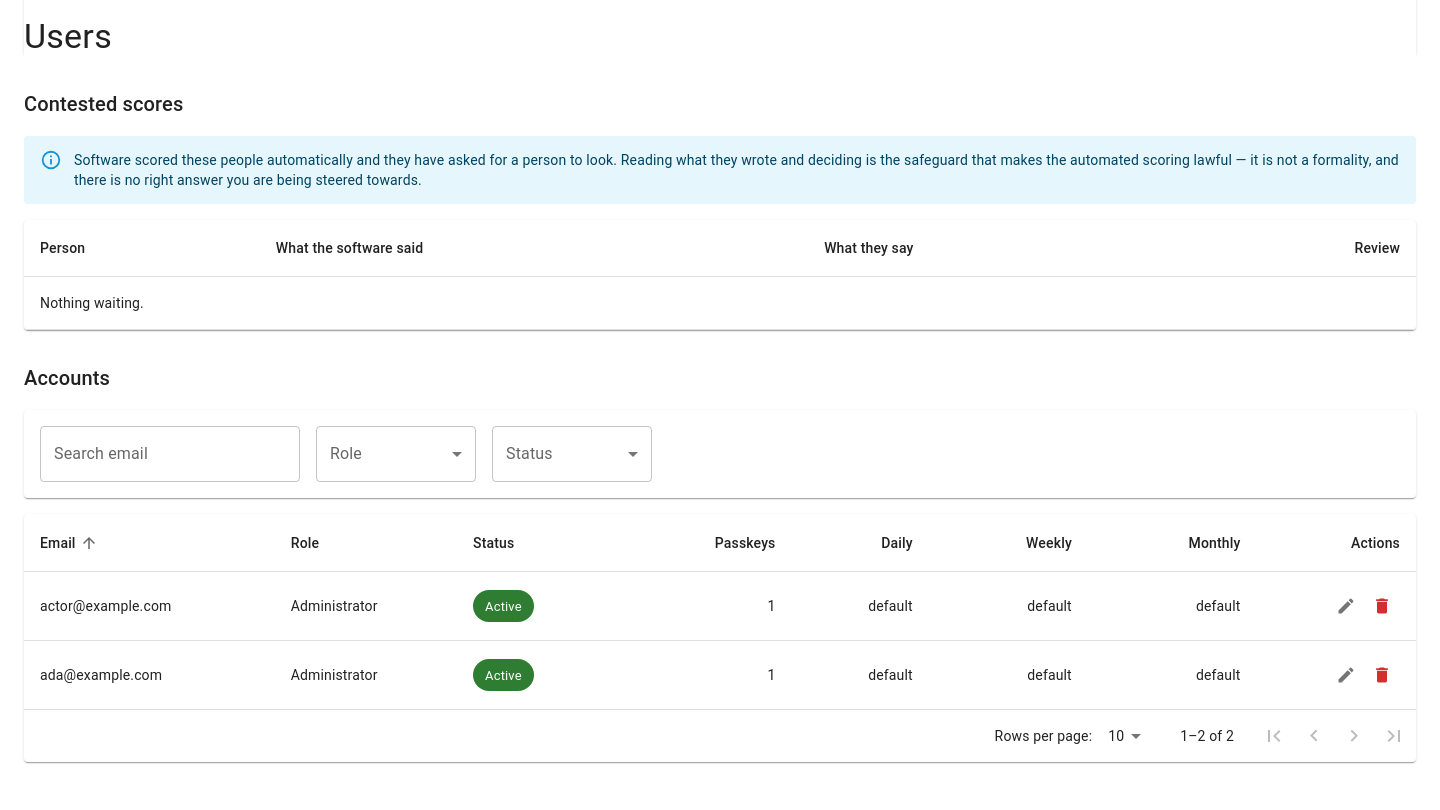
Test case: choosing a role › names the account in the question, so the wrong row is visible
(page scrolled)
What coordinates should you click on to do the following:
click the button named "Edit" in the row of "ada@example.com"
I would click on:
 (1346, 675)
Its box is [1328,657,1364,693].
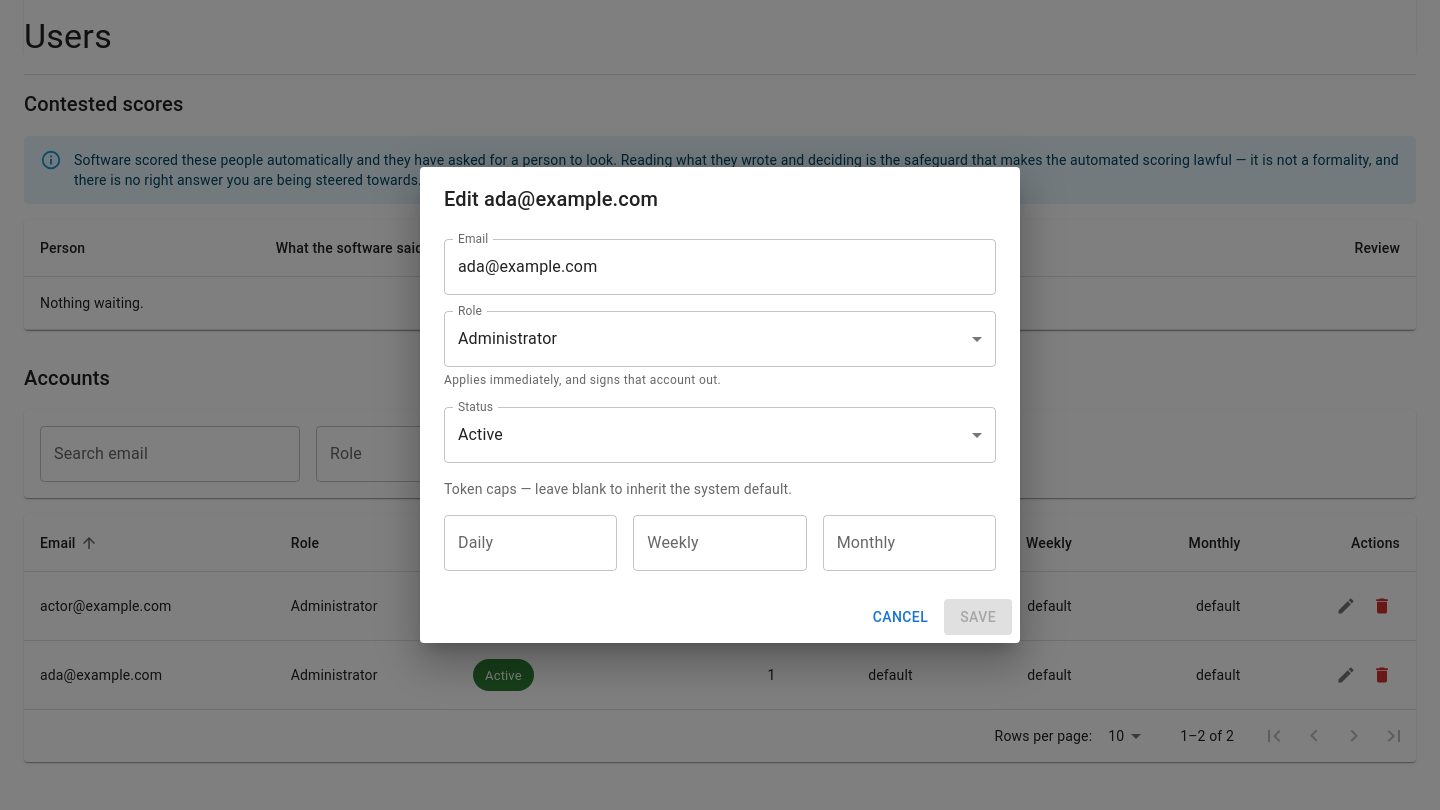
What coordinates should you click on to do the following:
click the dropdown labelled "Administrator"
I would click on:
 (508, 339)
Its box is [458,329,557,348].
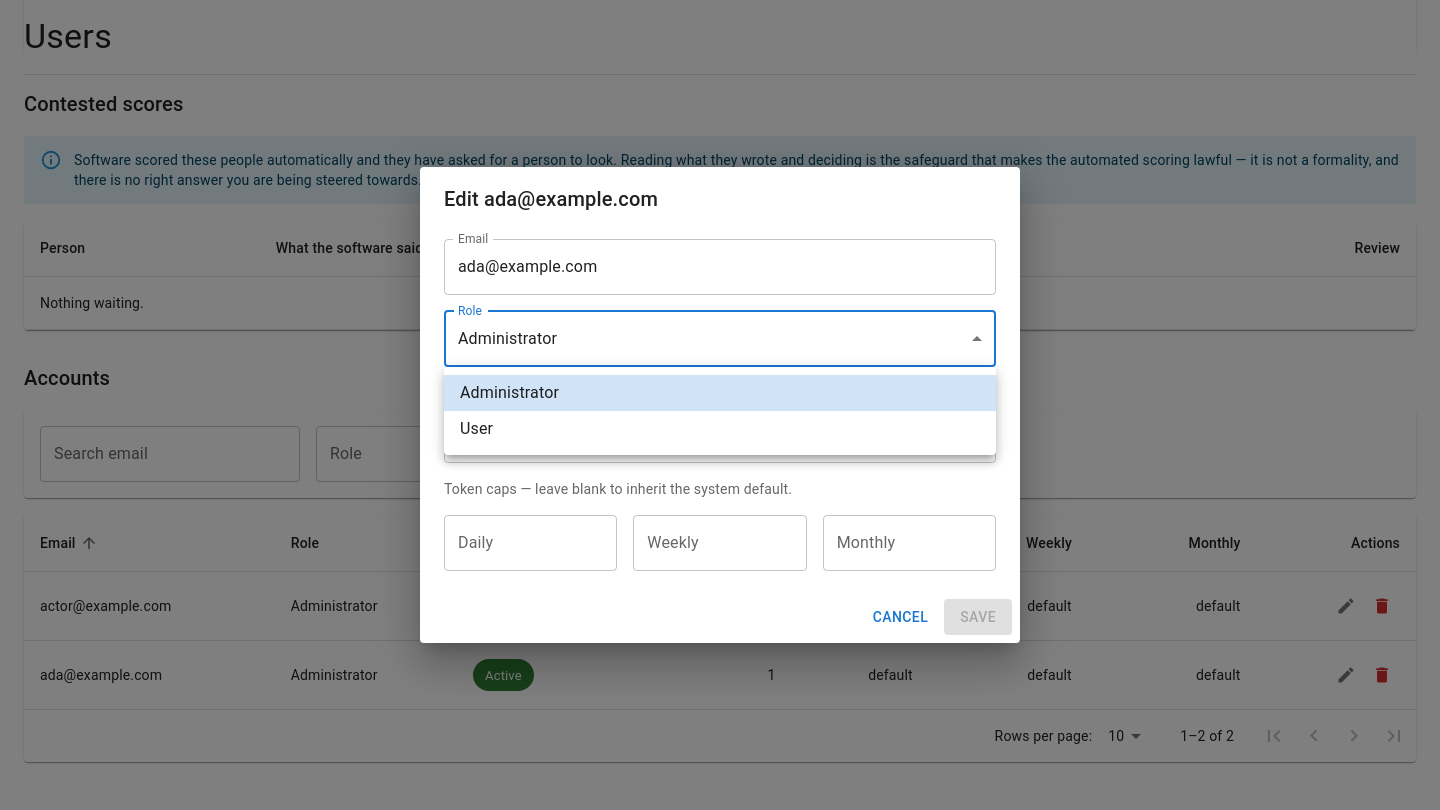
What coordinates should you click on to do the following:
click the option "User"
I would click on:
 (477, 428)
Its box is [460,419,493,438].
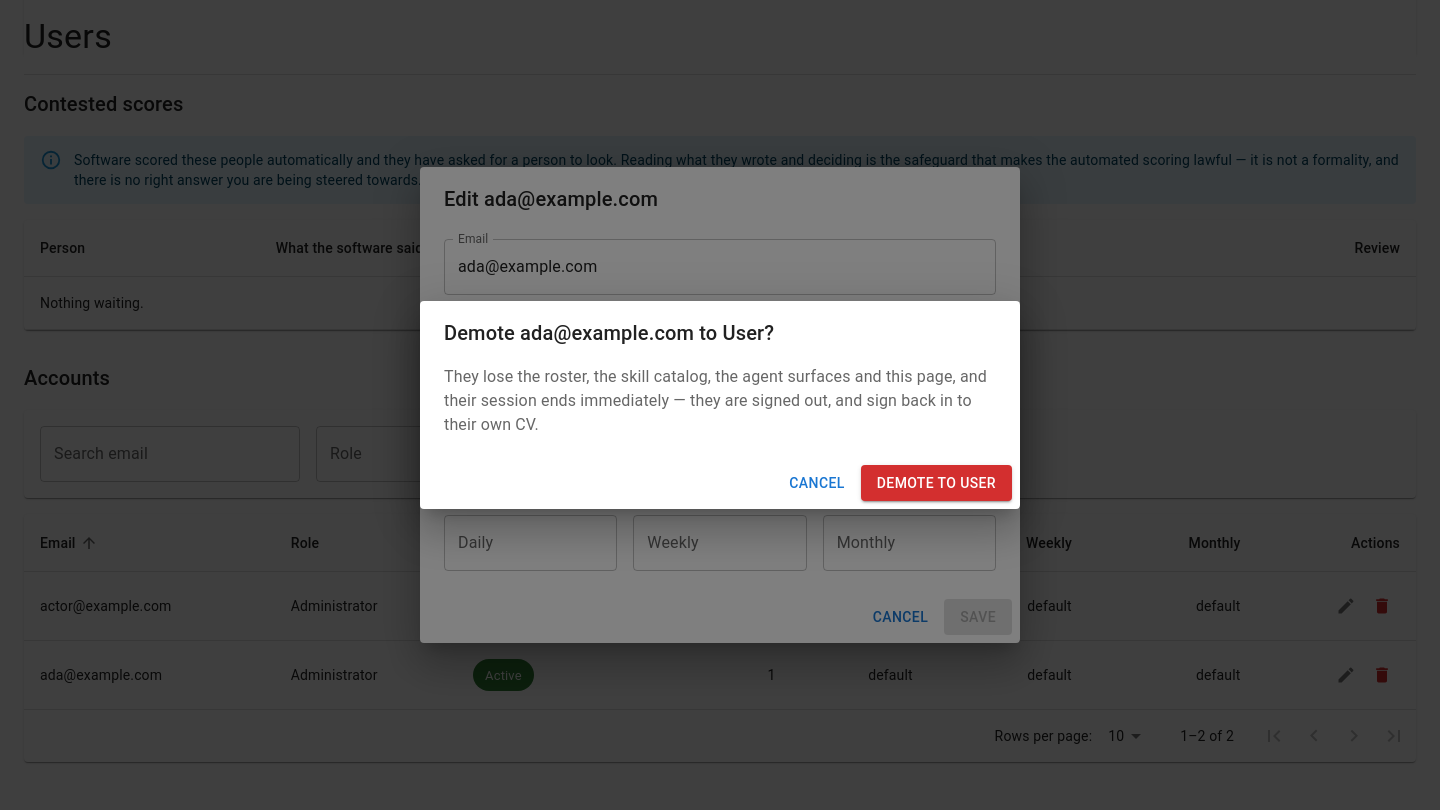
expect the heading "Demote ada@example.com to User?" is shown: met, box [444,321,774,345]
